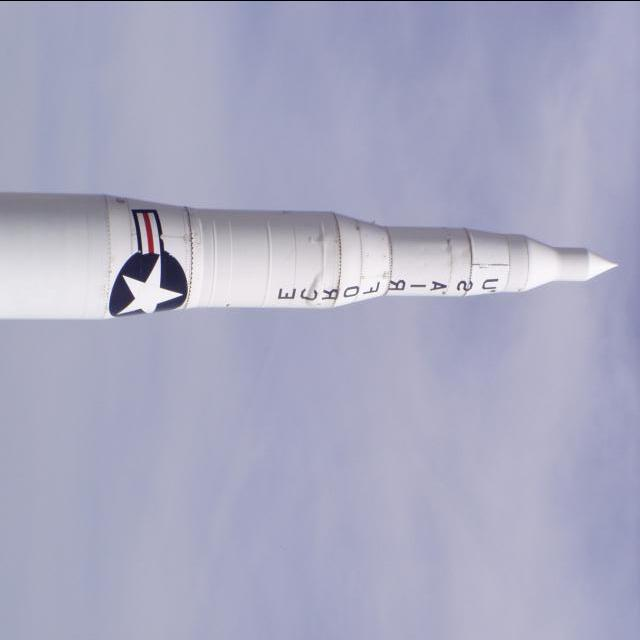Missile: (2, 186, 623, 312)
